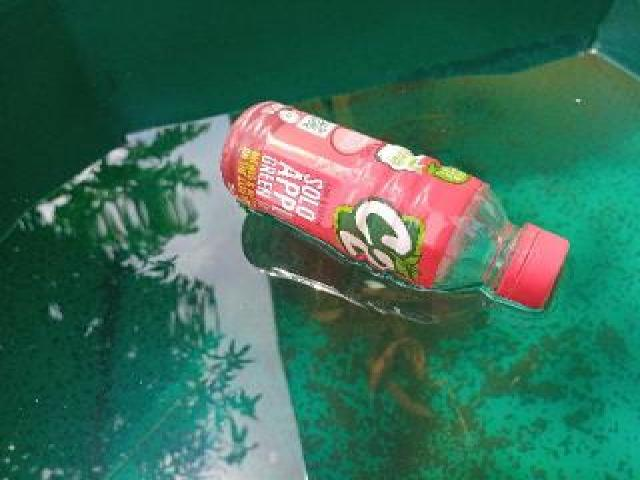Bottle: (204, 92, 578, 319)
